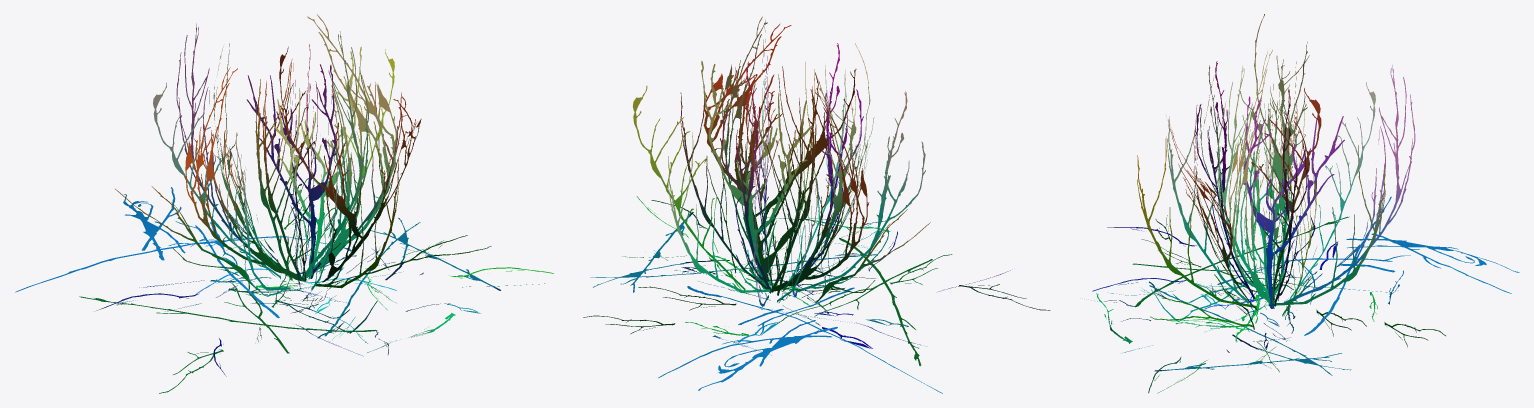
Rendered from Dead_Shrubs_vdknafgha_Raw_vdknafgha_VarE_LOD0.fbx.
The picture shows the model from 3 angles, left to right: view 1: azimuth 30°, elevation 25°; view 2: azimuth 150°, elevation 25°; view 3: azimuth 270°, elevation 25°; orthographic projection. The views are drawn at different scales.
Visible parts, largest first — view 1: _rngw_VarE_High; view 2: _rngw_VarE_High; view 3: _rngw_VarE_High.
Part boxes in pixels (x1,y1,x2,y2): _rngw_VarE_High: (15,14,553,393); _rngw_VarE_High: (583,16,1050,393); _rngw_VarE_High: (1092,14,1519,393).
Size of the model in its own units: 73.77 by 47.5 by 68.29.
